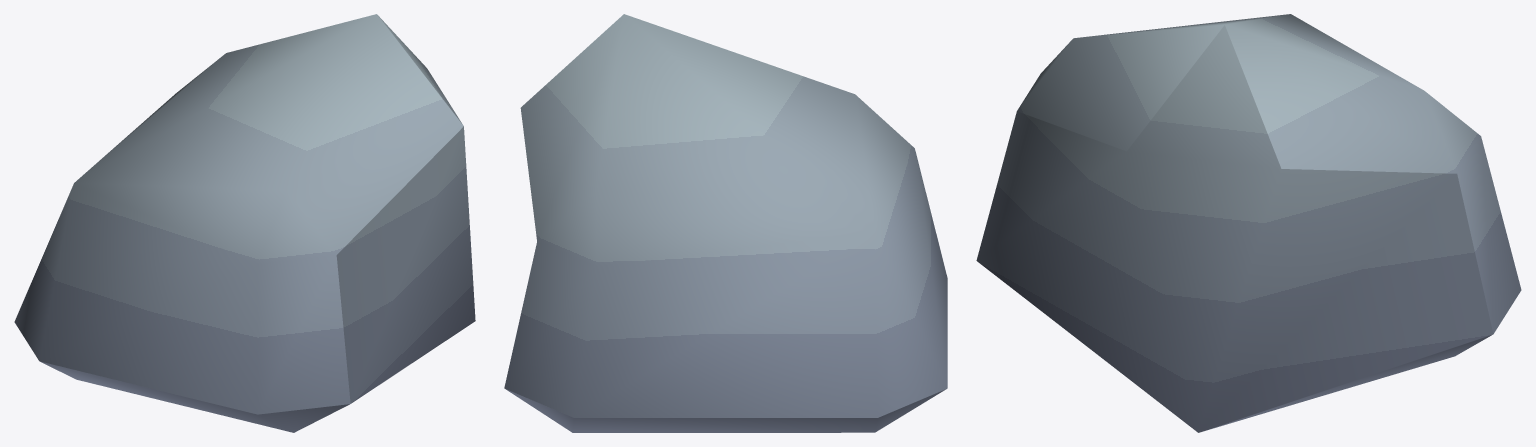
The model's file is rock2.fbx.
3 views of the same model, side by side, from view 1: azimuth 30°, elevation 25°; view 2: azimuth 150°, elevation 25°; view 3: azimuth 270°, elevation 25° (orthographic). The views are drawn at different scales.
Parts seen in each view (by area): view 1: rock2; view 2: rock2; view 3: rock2.
Boxes of the visible parts, <box> form: rock2: <box>14,14,475,432</box>; rock2: <box>504,14,947,432</box>; rock2: <box>976,14,1521,432</box>.
Bounding box in the file's own units: 109 × 80.95 × 111.
